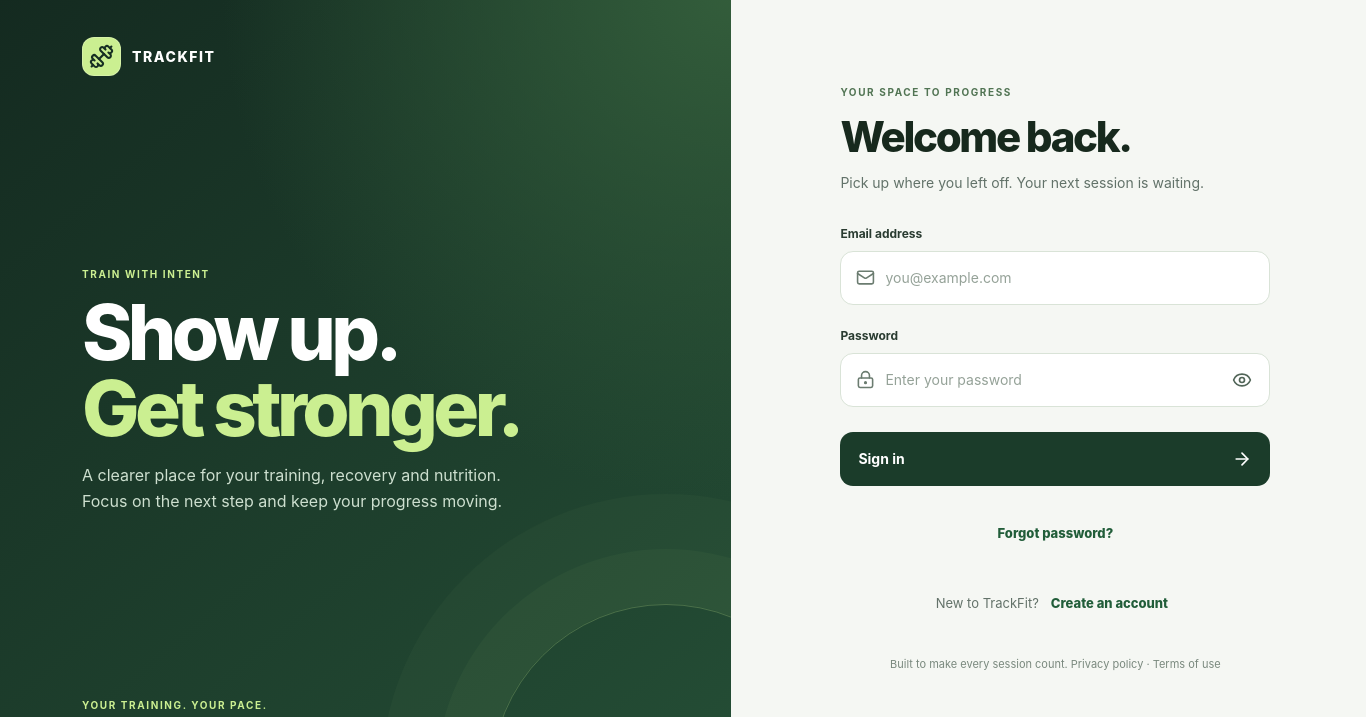
Test case: TrackFit account password setup › rejects weak sign-up passwords before contacting Supabase
The image size is (1366, 717).
Click the button "Create an account" at (1109, 604), box x1=1044 y1=582 x2=1175 y2=626
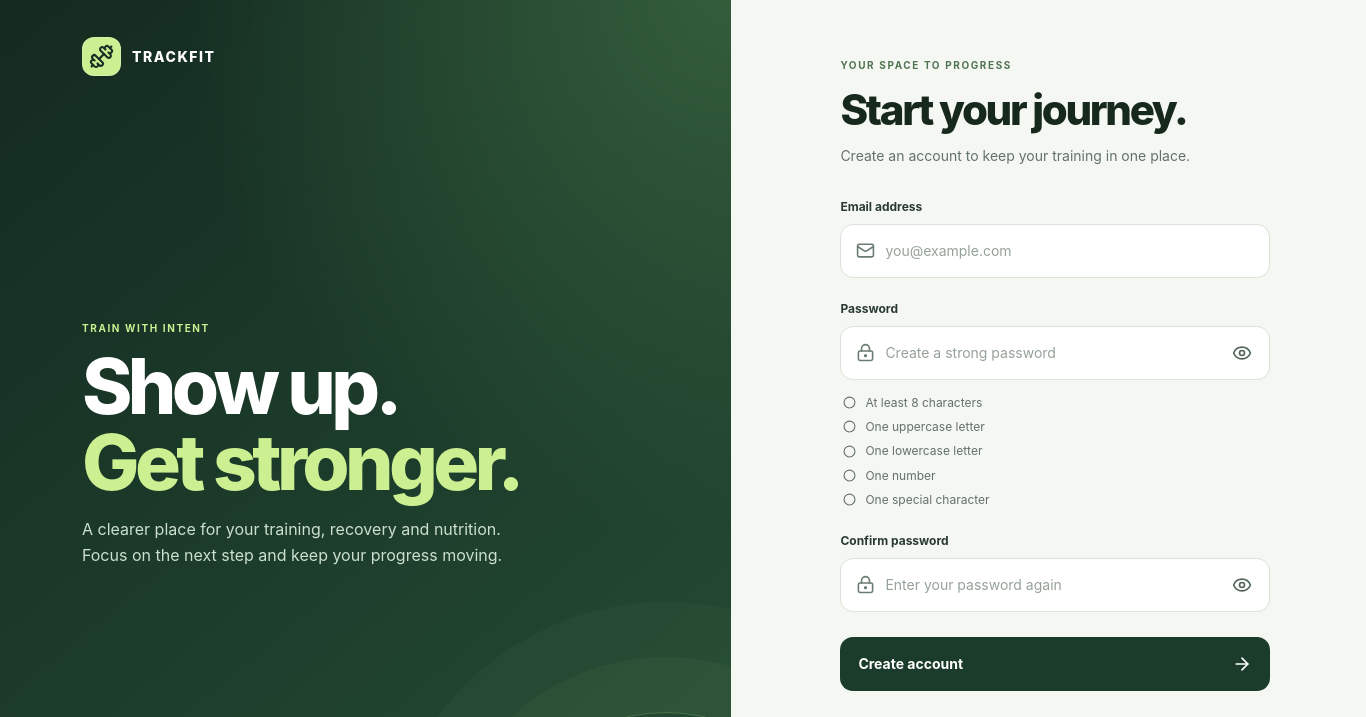
Type "tester@example.com" into the field labelled "Email address" at (1070, 251), box x1=885 y1=225 x2=1254 y2=277
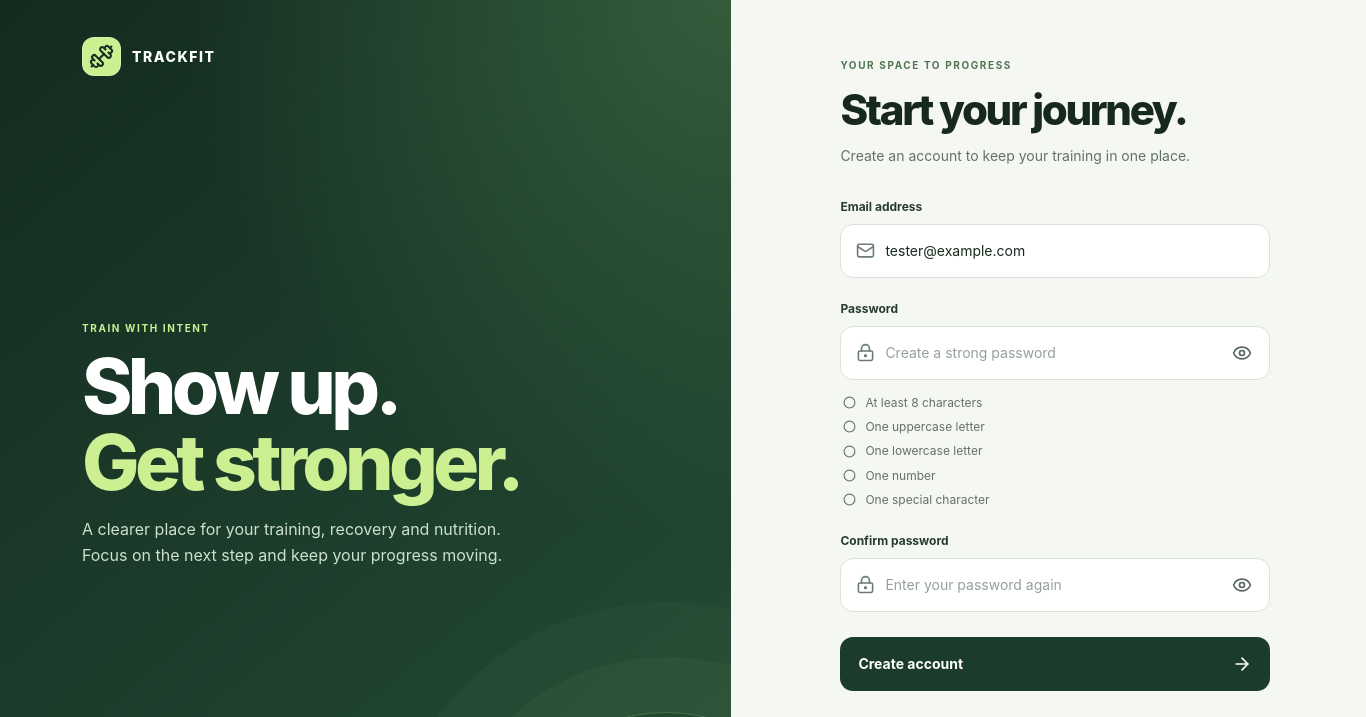
Type "password123" into the password field labelled "Password" at (1048, 353), box x1=885 y1=327 x2=1210 y2=379
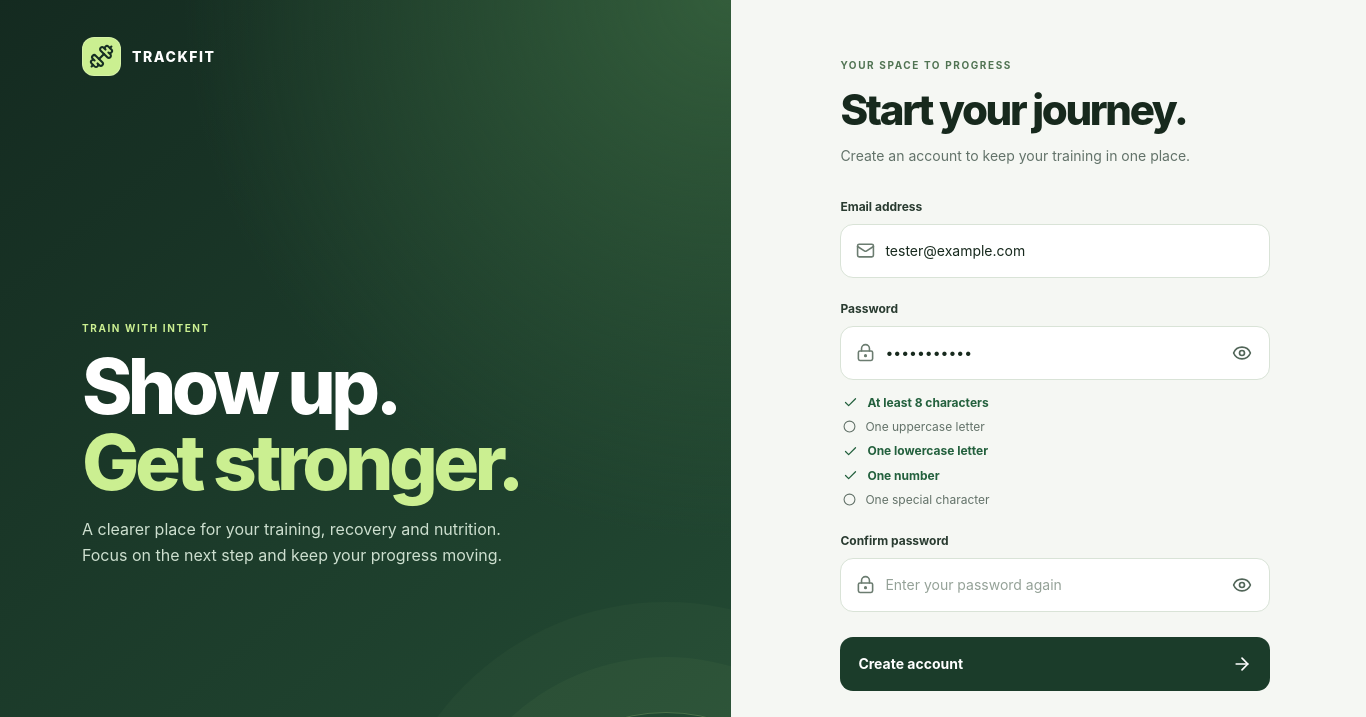
Type "password123" into the password field labelled "Confirm password" at (1048, 584), box x1=885 y1=558 x2=1210 y2=610
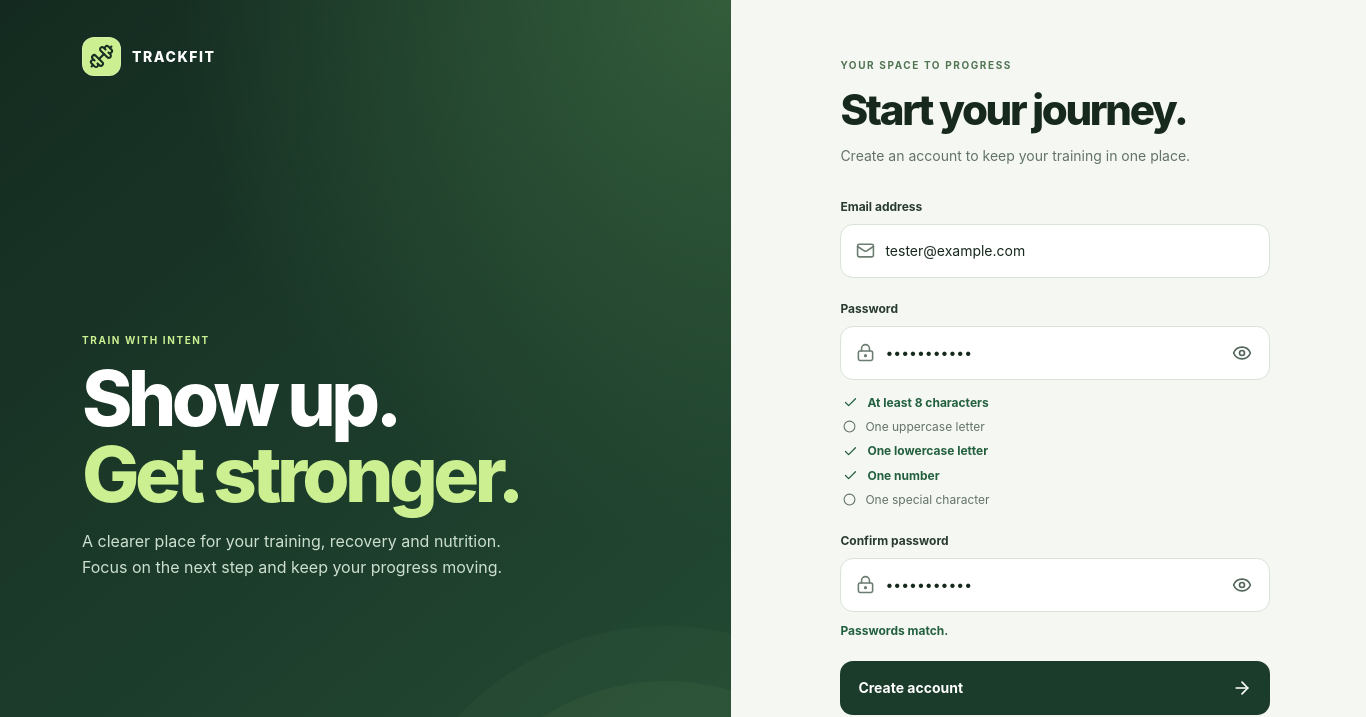
Submit the form named "Create account", box x1=840 y1=198 x2=1270 y2=715
(page scrolled)
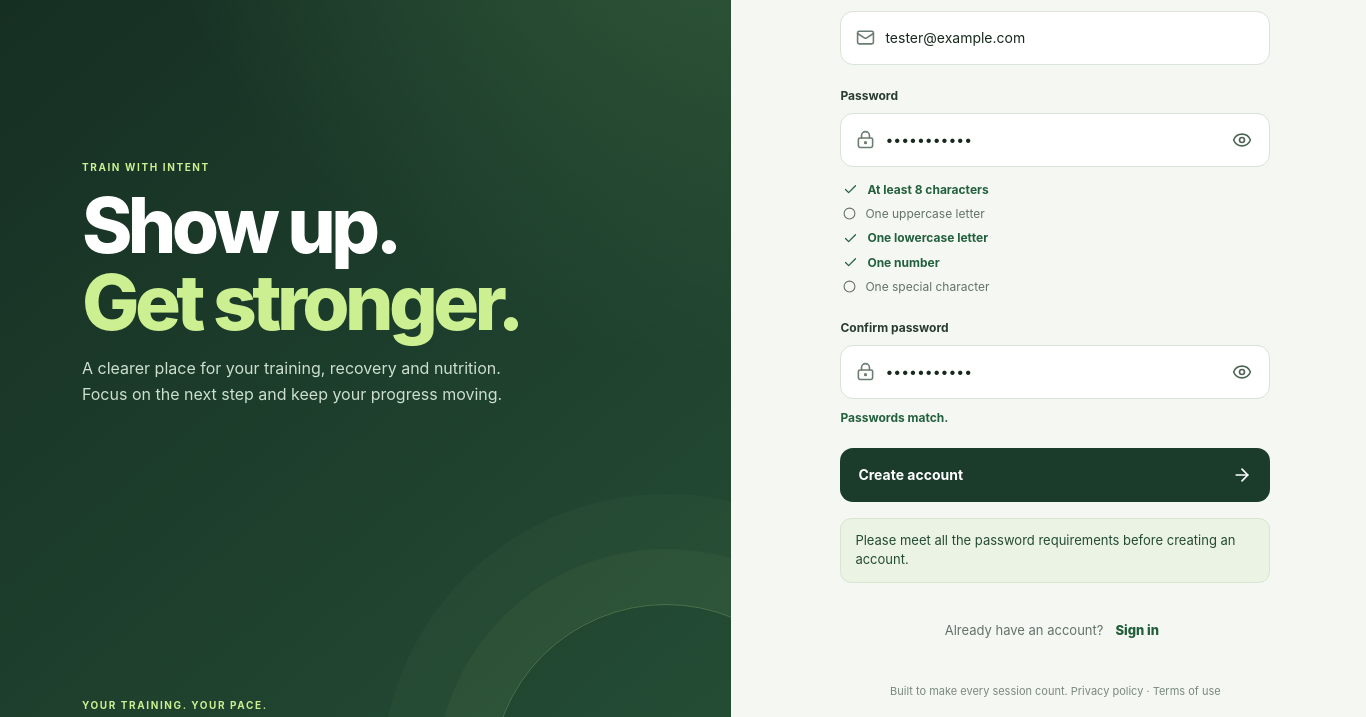
Result: the text "Please meet all the password requirements before creating an account." is shown at x1=840 y1=518 x2=1270 y2=582
